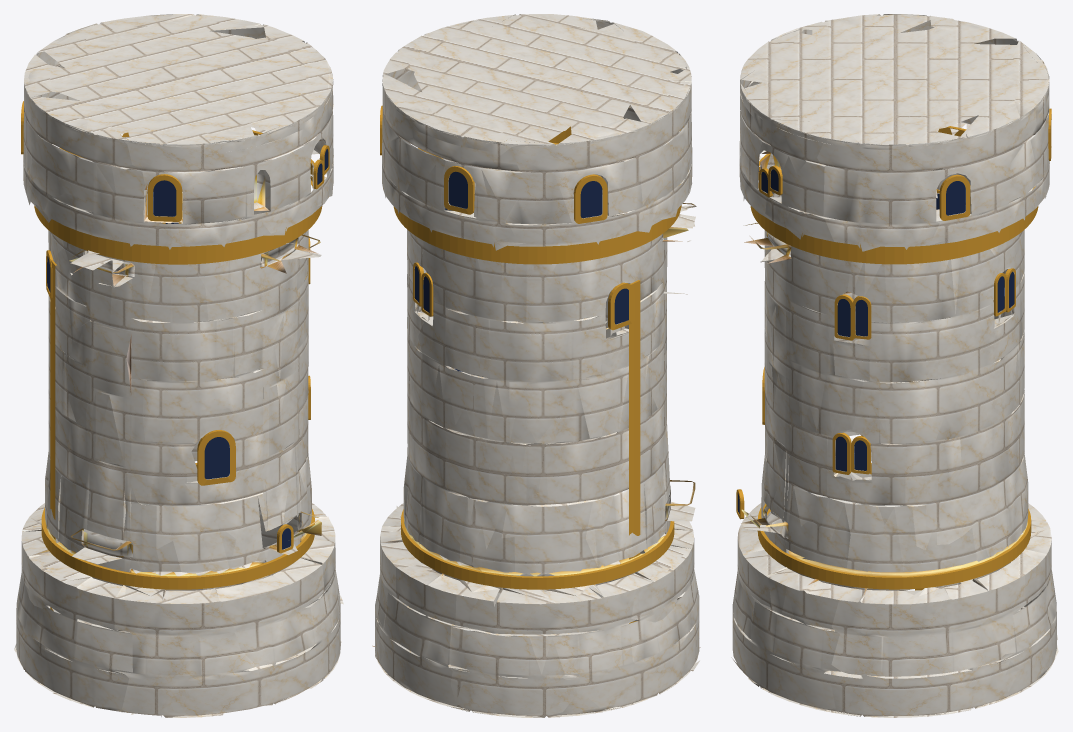
Rendered from HaloPart_GateTowerR_trim.glb.
3 views of the same model, side by side, from view 1: azimuth 30°, elevation 25°; view 2: azimuth 150°, elevation 25°; view 3: azimuth 270°, elevation 25° (orthographic).
Parts seen in each view (by area): view 1: HaloPart_GateTowerR_Stone, HaloPart_GateTowerR_Gold, HaloPart_GateTowerR_Trim, HaloPart_GateTowerR_Glass; view 2: HaloPart_GateTowerR_Stone, HaloPart_GateTowerR_Gold, HaloPart_GateTowerR_Glass, HaloPart_GateTowerR_Trim; view 3: HaloPart_GateTowerR_Stone, HaloPart_GateTowerR_Gold, HaloPart_GateTowerR_Glass, HaloPart_GateTowerR_Trim.
Part boxes in pixels (x1,y1,x2,y2): HaloPart_GateTowerR_Stone: (14, 14, 343, 717); HaloPart_GateTowerR_Gold: (21, 101, 329, 610); HaloPart_GateTowerR_Trim: (32, 139, 325, 576); HaloPart_GateTowerR_Glass: (47, 149, 328, 549); HaloPart_GateTowerR_Stone: (375, 14, 699, 717); HaloPart_GateTowerR_Gold: (380, 105, 683, 623); HaloPart_GateTowerR_Glass: (414, 171, 628, 371); HaloPart_GateTowerR_Trim: (372, 203, 700, 647); HaloPart_GateTowerR_Stone: (731, 14, 1058, 717); HaloPart_GateTowerR_Gold: (736, 108, 1051, 590); HaloPart_GateTowerR_Glass: (737, 169, 1014, 513); HaloPart_GateTowerR_Trim: (741, 132, 1027, 608).
Bounding box in the file's own units: 0.5058 × 0.9796 × 0.5104.
Materials: 4 (4 with a texture image).
